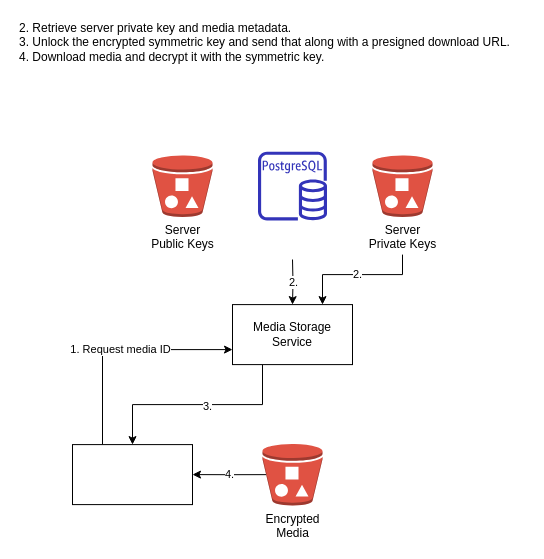
This 544x559 diagram has some shape labels left out. Here are the shapes that lost their labels. From the top down, the box of each, then its label:
(258, 151, 326, 220): Media Metadata
(72, 444, 192, 505): Audio Player
